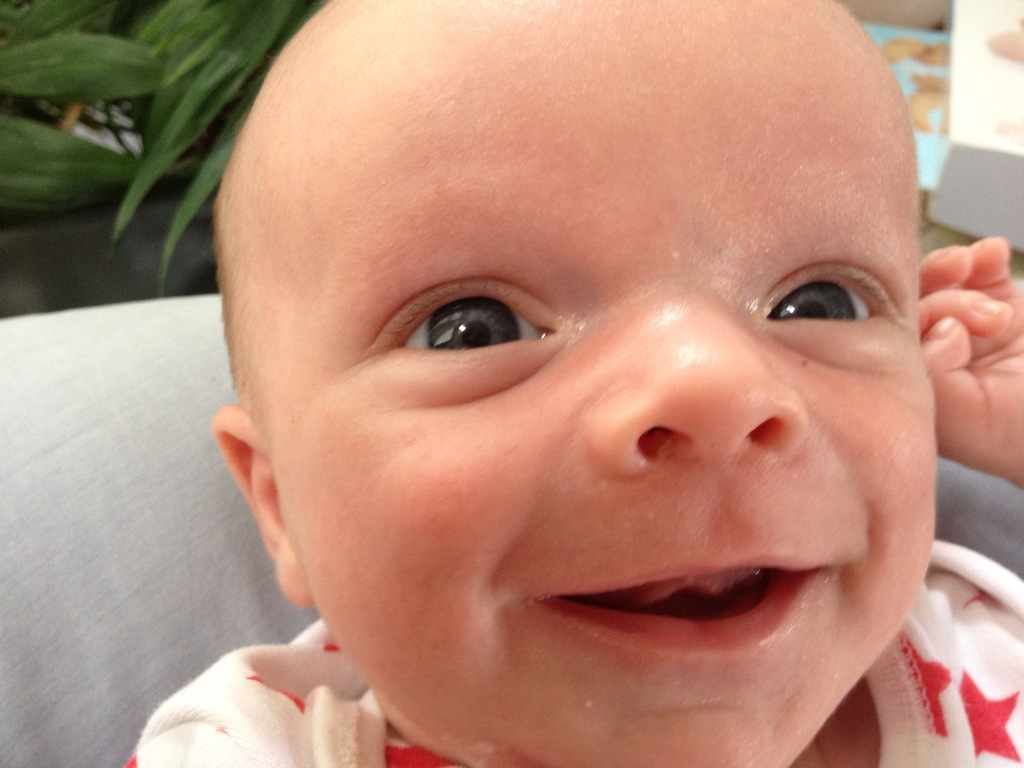Human-face: (275, 0, 941, 767)
